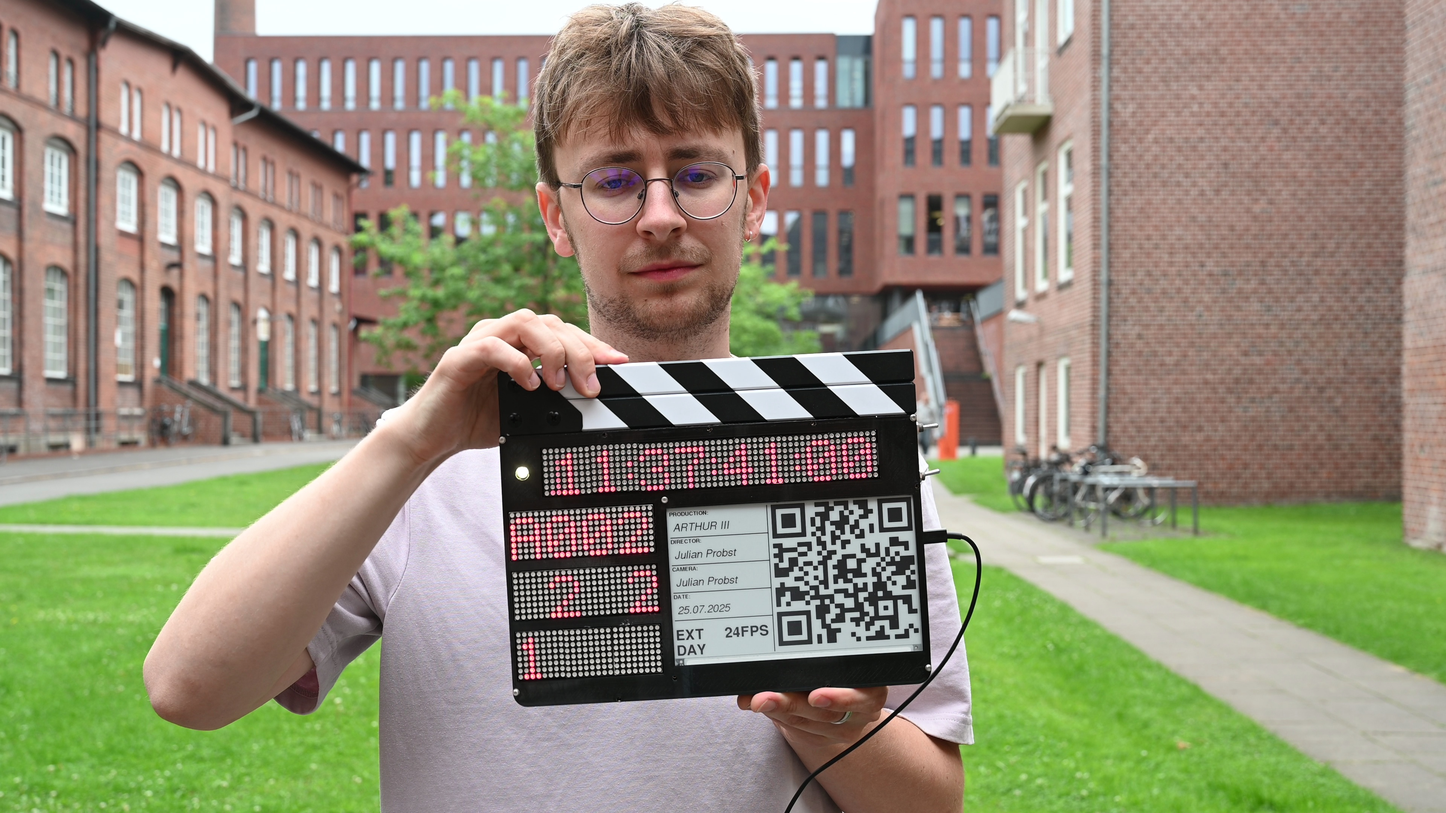ARC-SLATE: (498, 378, 932, 708), (931, 534, 944, 550)
